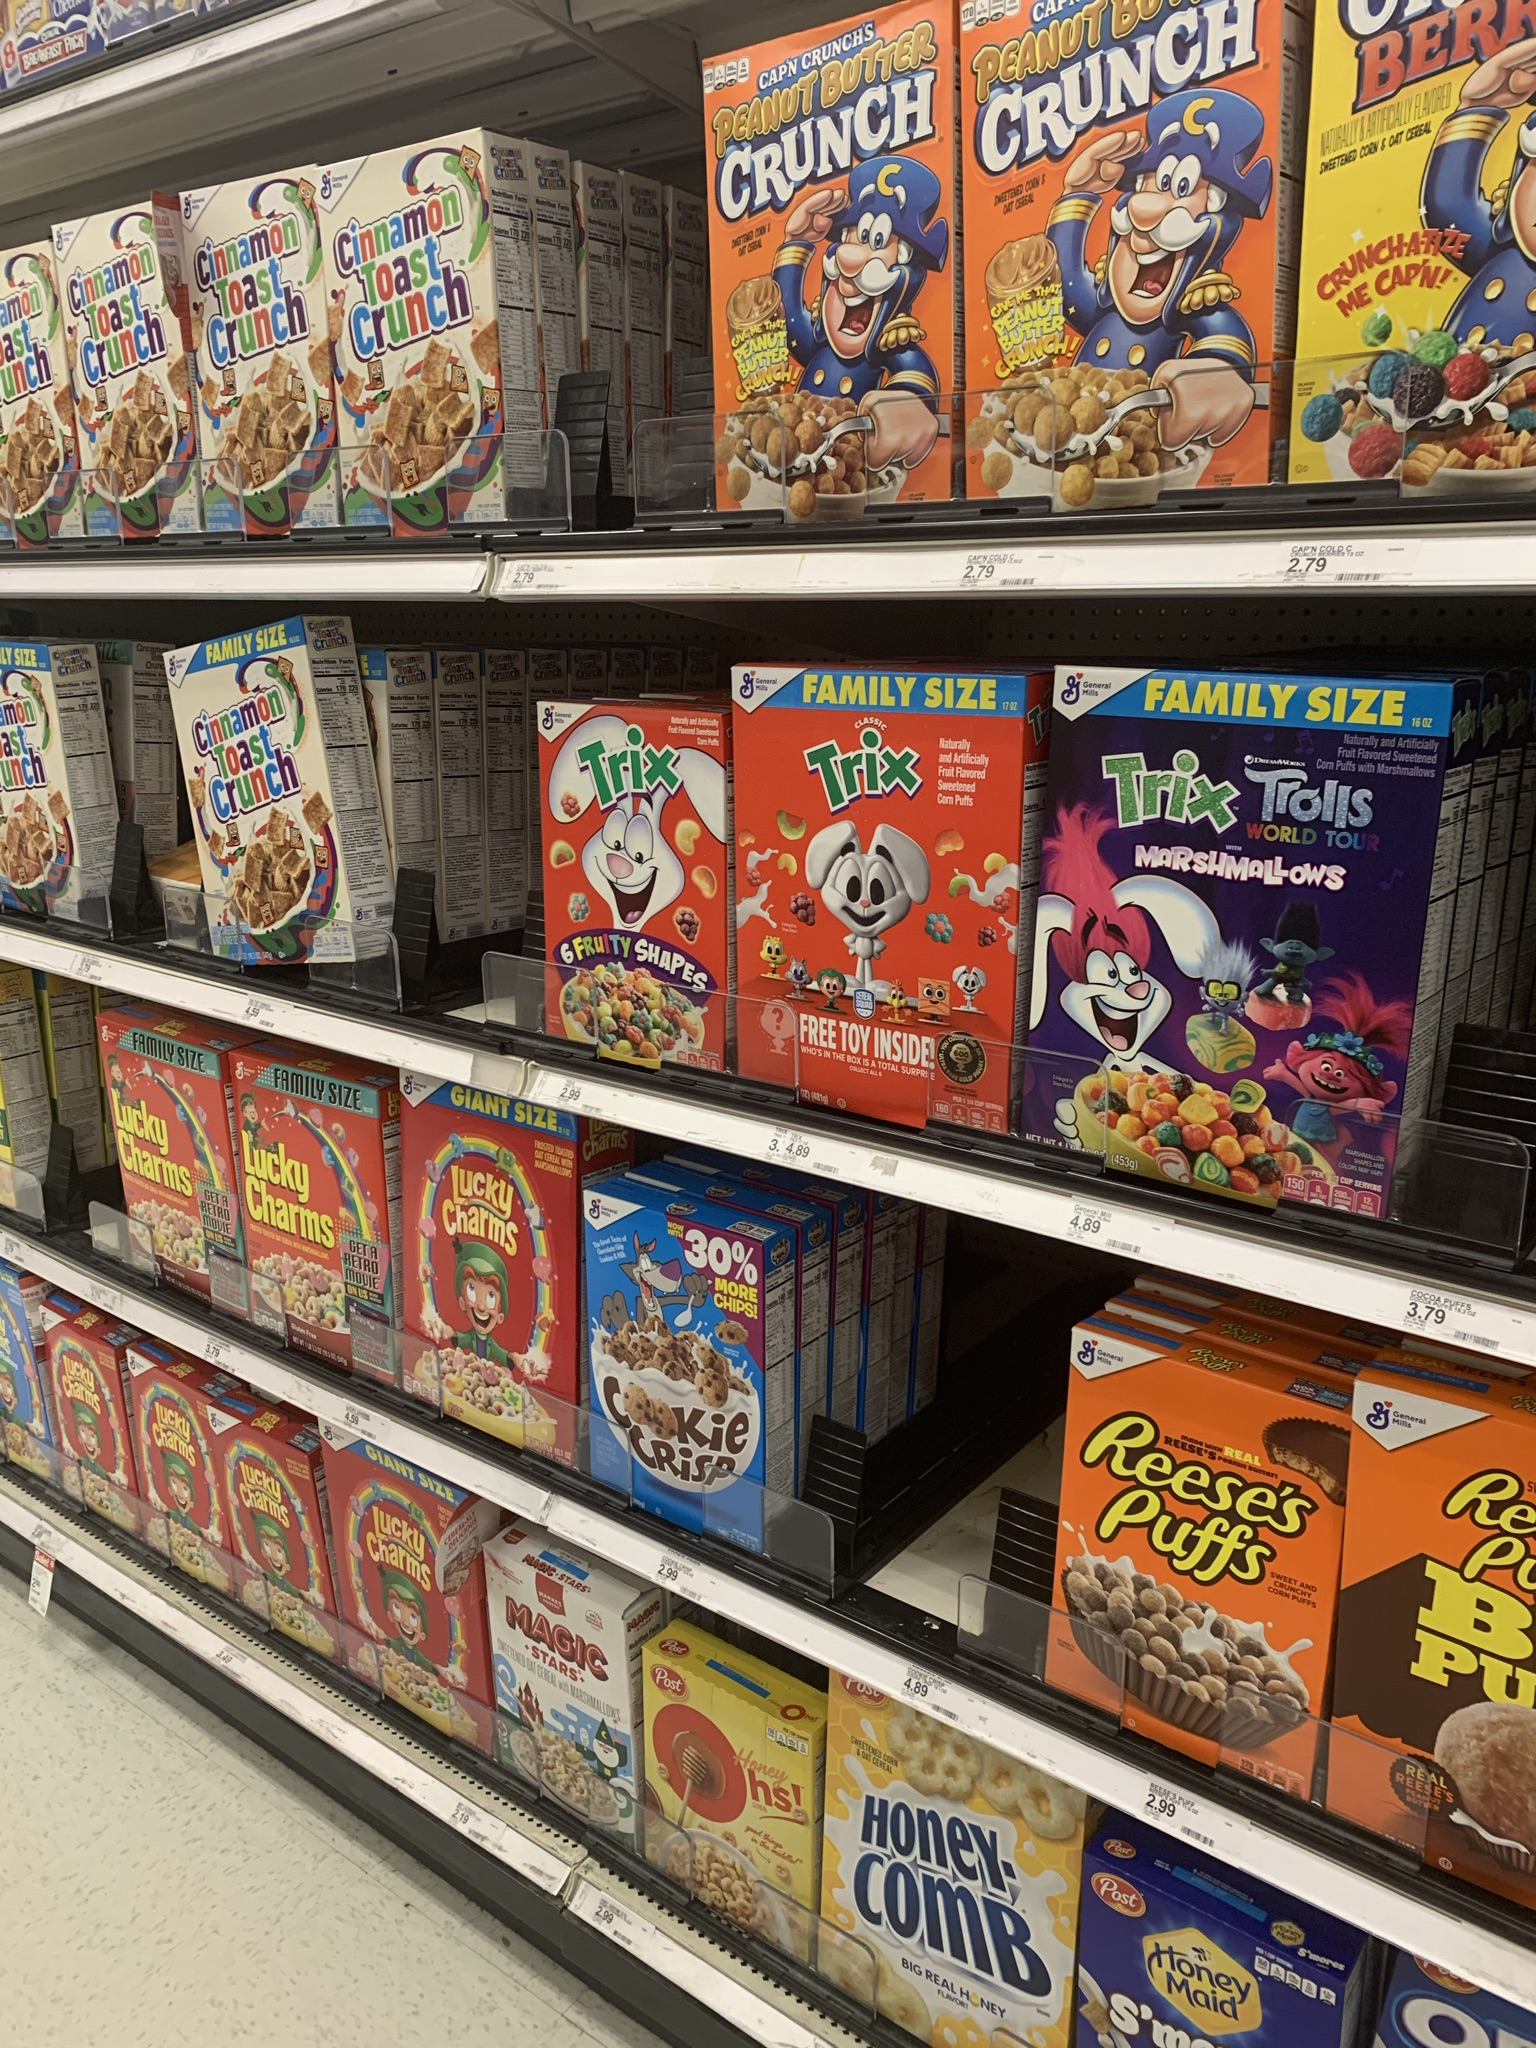cereal: (1052, 666, 1400, 1218), (958, 6, 1262, 489), (729, 661, 1010, 1132), (697, 55, 958, 508), (1300, 3, 1536, 493), (1079, 1335, 1318, 1804), (1329, 1372, 1536, 1898), (839, 1680, 1058, 2048), (298, 174, 508, 543), (529, 698, 728, 1089), (576, 1187, 776, 1546), (160, 647, 371, 955), (405, 1071, 571, 1461), (171, 190, 350, 543), (239, 1061, 403, 1385), (324, 1466, 487, 1785), (650, 1651, 820, 1953), (48, 226, 202, 543), (97, 1013, 244, 1319), (481, 1543, 624, 1851), (119, 1351, 237, 1609), (211, 1435, 332, 1672), (2, 643, 86, 930), (37, 1321, 136, 1559)
